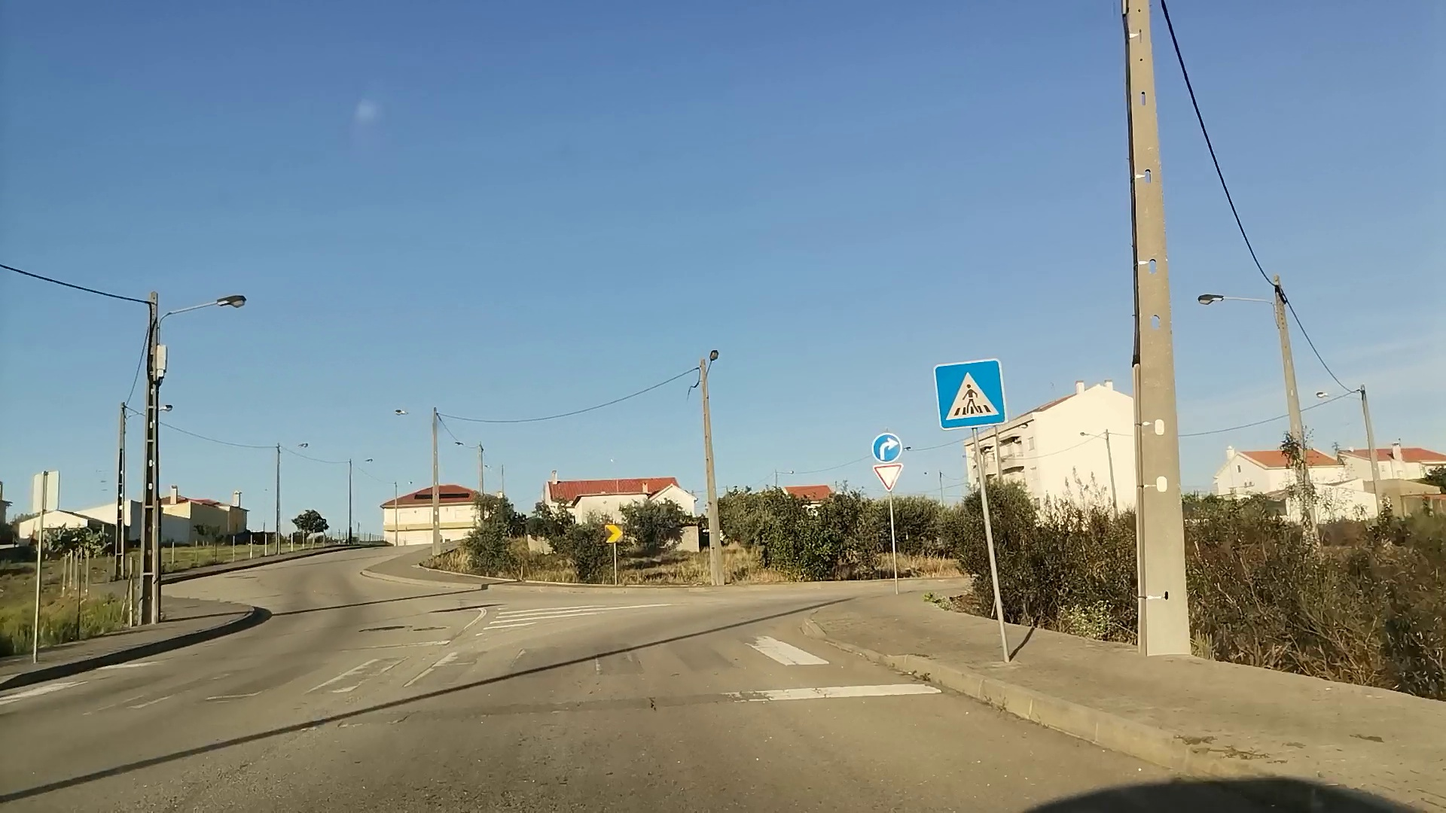Stairs: (0, 632, 835, 709)
